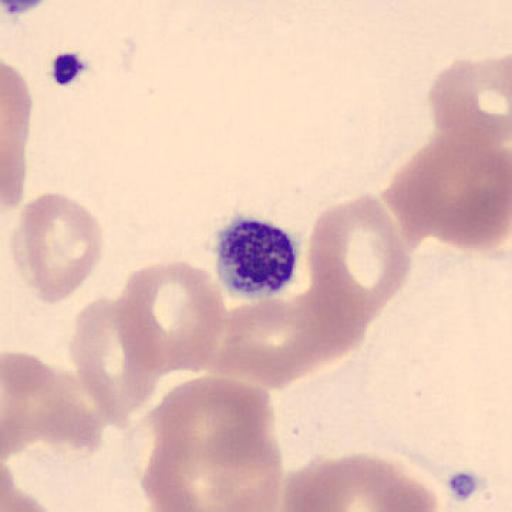Platelet: (211, 213, 301, 300)
RBC: (141, 374, 280, 512), (210, 275, 363, 391), (305, 191, 412, 341), (385, 133, 512, 252), (68, 294, 166, 431), (116, 258, 228, 377), (204, 293, 326, 390), (2, 350, 102, 462), (428, 53, 512, 184), (10, 192, 104, 304), (291, 451, 441, 512), (190, 426, 284, 512), (2, 350, 61, 458), (0, 61, 31, 213), (380, 170, 434, 252), (280, 454, 350, 512), (0, 464, 68, 512), (1, 130, 27, 212)
